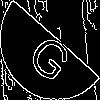G: (25, 25, 80, 86)
